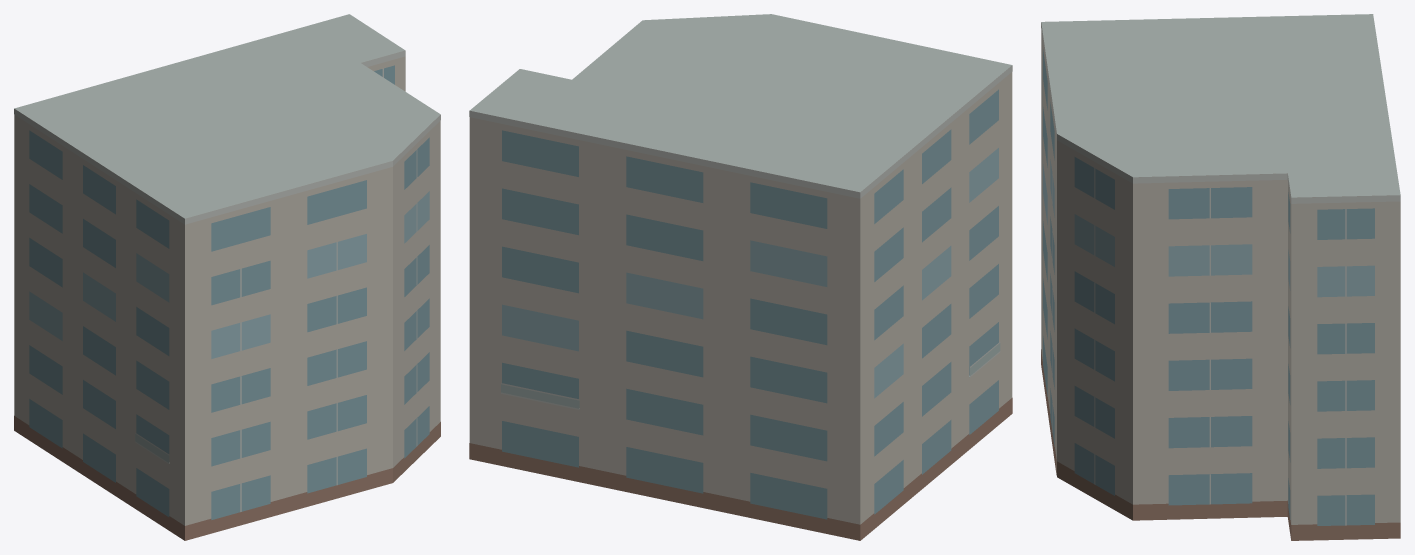
File: survey-upis-32892438.glb
The picture shows the model from 3 angles, left to right: view 1: azimuth 30°, elevation 25°; view 2: azimuth 150°, elevation 25°; view 3: azimuth 270°, elevation 25°; orthographic projection. The views are drawn at different scales.
Visible parts, largest first — view 1: survey-upis-32892438.tmp; view 2: survey-upis-32892438.tmp; view 3: survey-upis-32892438.tmp.
Boxes of the visible parts, x1,y1,x2,y2 form: survey-upis-32892438.tmp: [14, 14, 440, 540]; survey-upis-32892438.tmp: [469, 14, 1012, 540]; survey-upis-32892438.tmp: [1041, 14, 1400, 540].
Size of the model in its own units: 15.15 by 13.2 by 12.54.
